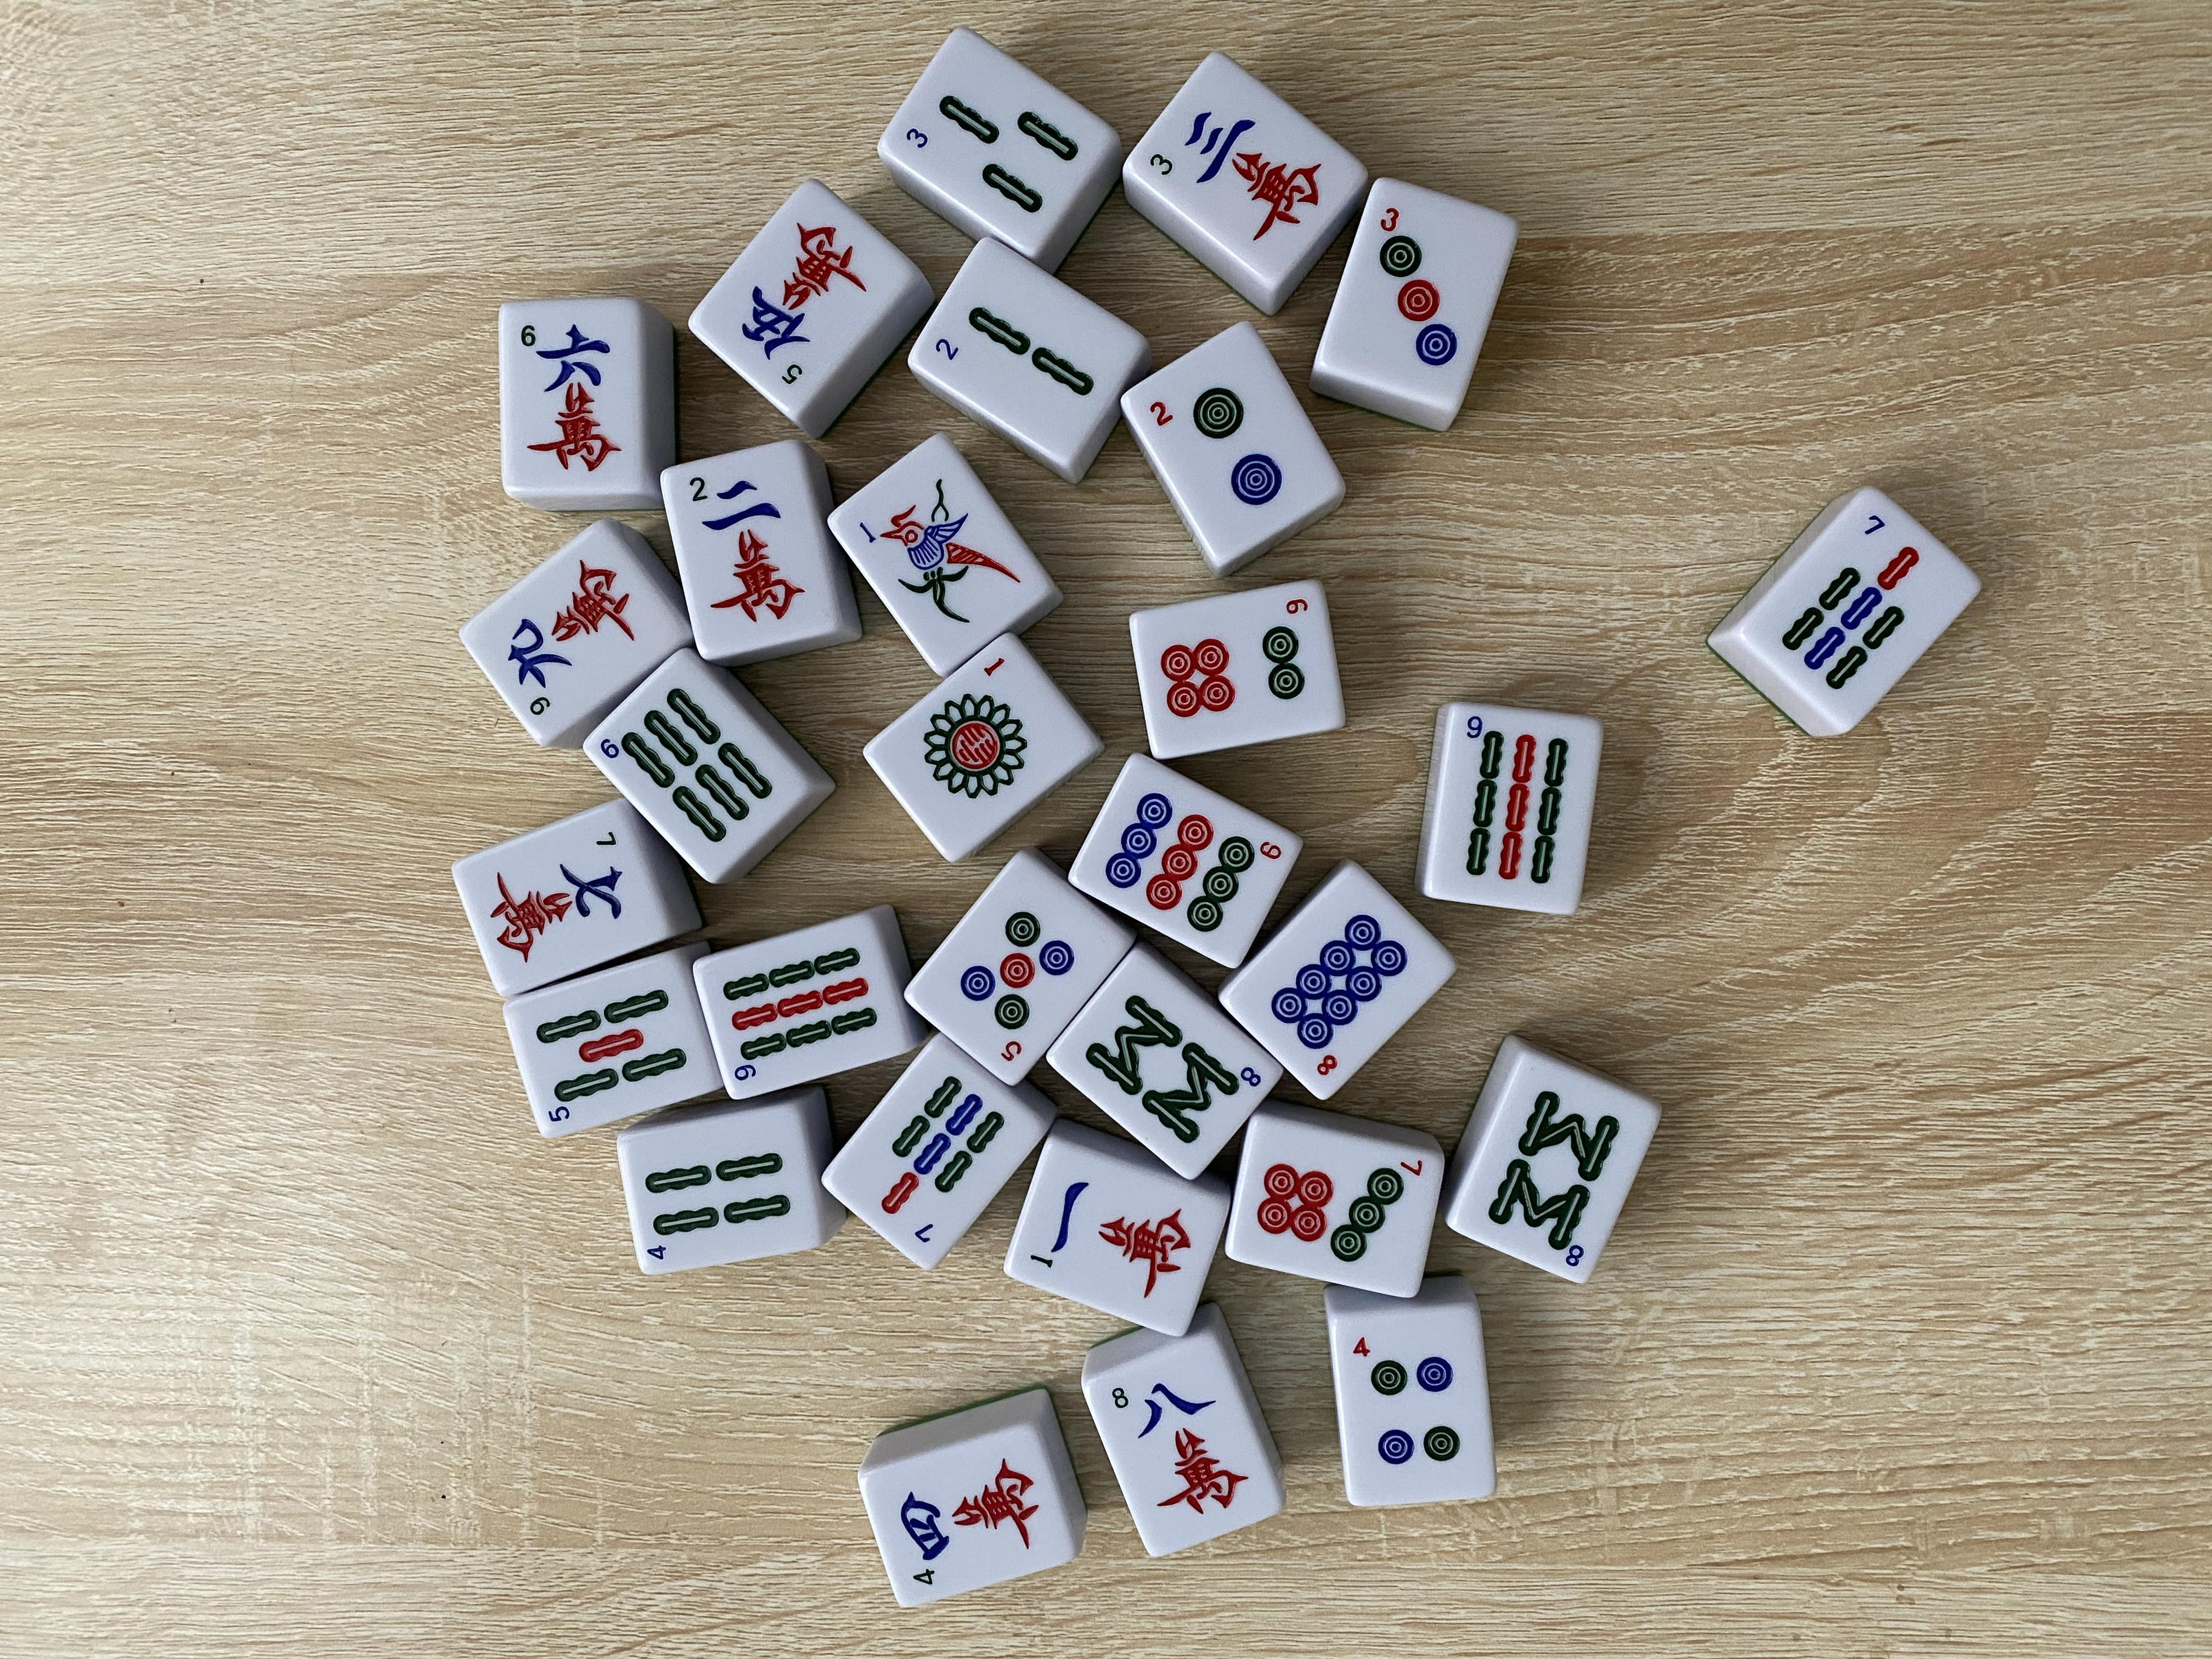bamboo-eight: (1042, 948, 1287, 1187), (1446, 1051, 1662, 1284)
bamboo-five: (502, 953, 721, 1136)
bamboo-four: (615, 1103, 822, 1279)
bamboo-nine: (690, 913, 911, 1101), (1425, 701, 1602, 917)
bamboo-one: (824, 432, 1055, 676)
bamboo-seven: (1737, 483, 1986, 735), (820, 1032, 1049, 1270)
bamboo-six: (578, 647, 813, 885)
bamboo-three: (878, 24, 1122, 260)
bamboo-two: (907, 234, 1150, 471)
character-eight: (1078, 1330, 1282, 1560)
character-five: (686, 178, 920, 416)
character-four: (857, 1422, 1076, 1610)
character-nine: (456, 516, 691, 746)
character-one: (1005, 1138, 1233, 1337)
character-seven: (451, 796, 669, 1002)
character-six: (502, 301, 644, 490)
character-three: (1125, 49, 1372, 291)
character-two: (658, 439, 841, 659)
circle-eight: (1216, 863, 1461, 1105)
circle-five: (902, 850, 1134, 1087)
circle-four: (1329, 1304, 1493, 1506)
circle-nine: (1068, 753, 1305, 972)
circle-one: (862, 631, 1097, 863)
circle-seven: (1226, 1115, 1449, 1298)
circle-six: (1130, 582, 1345, 758)
circle-three: (1315, 176, 1521, 410)
circle-two: (1118, 321, 1346, 570)
